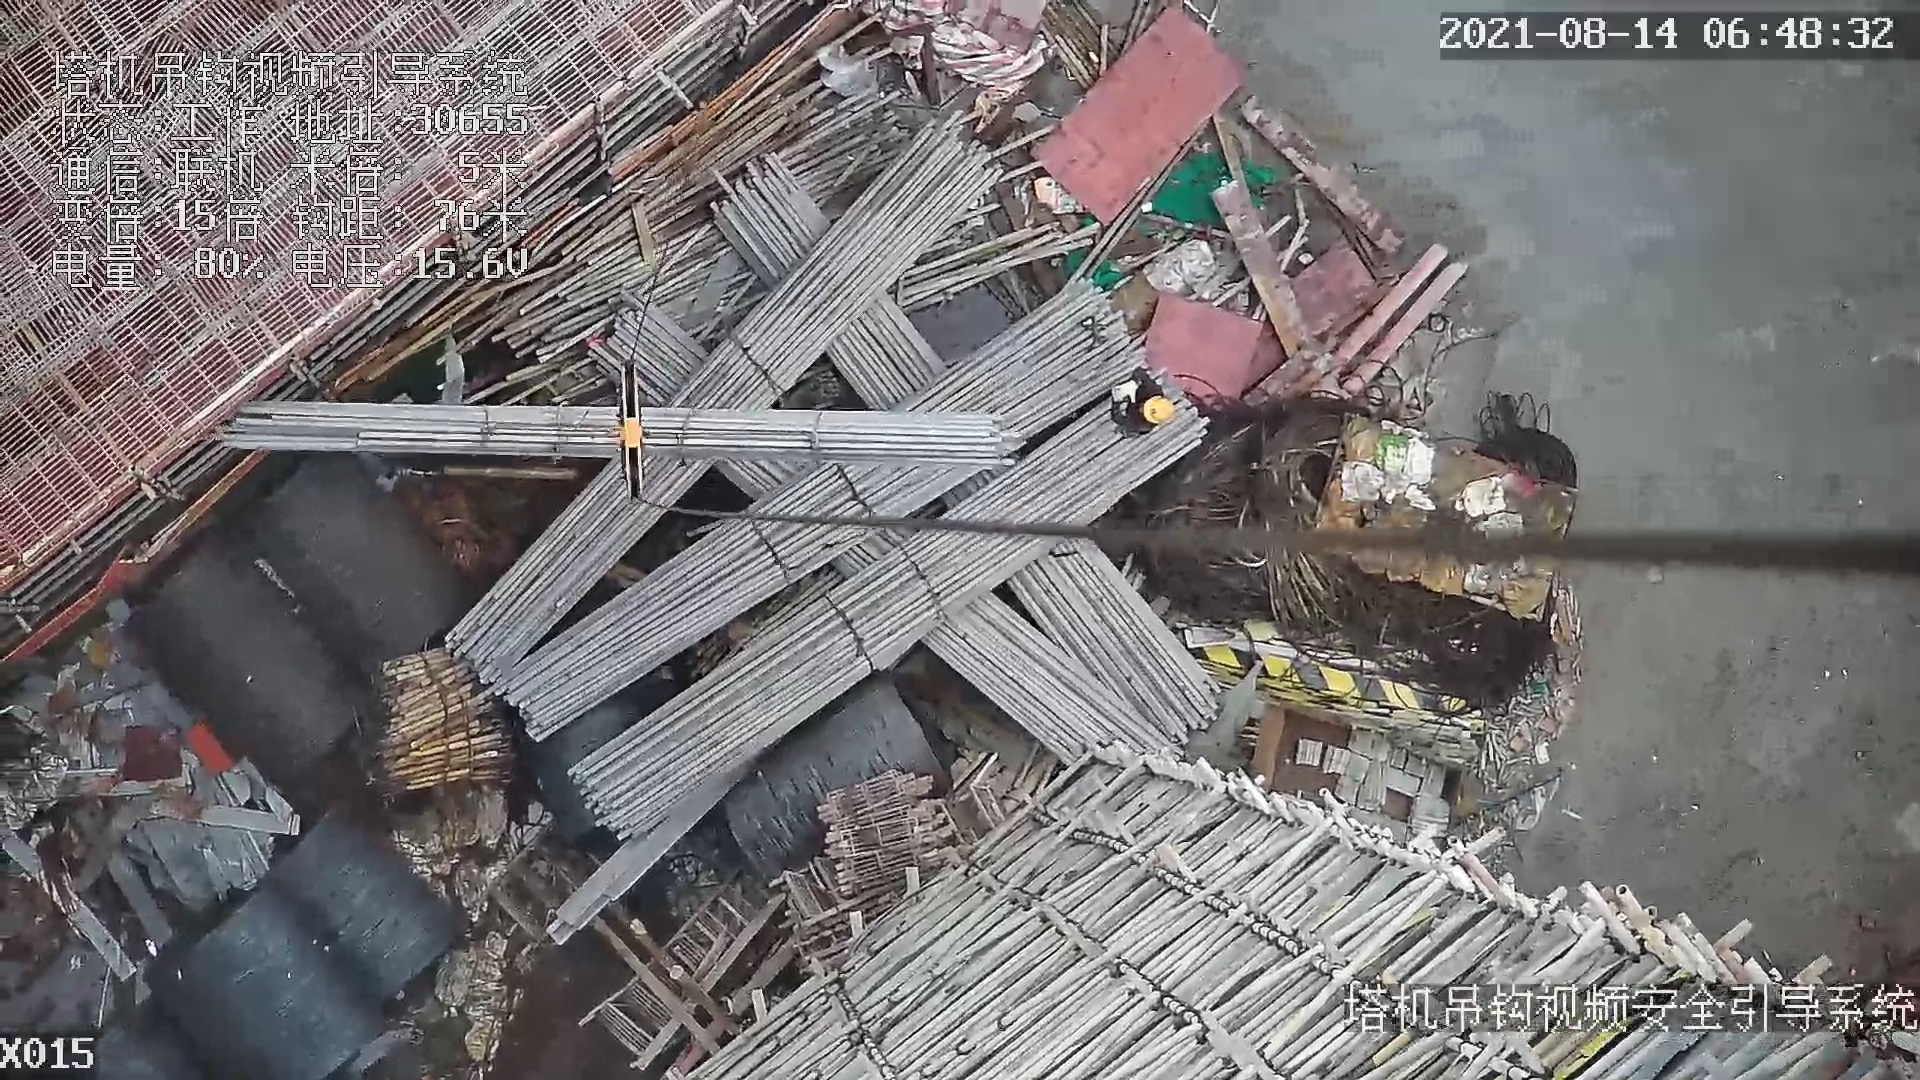board: (1026, 1, 1243, 224)
helmet: (1140, 391, 1173, 426)
hook: (618, 358, 647, 509)
person: (1106, 367, 1190, 440)
scaffold: (375, 648, 514, 782)
